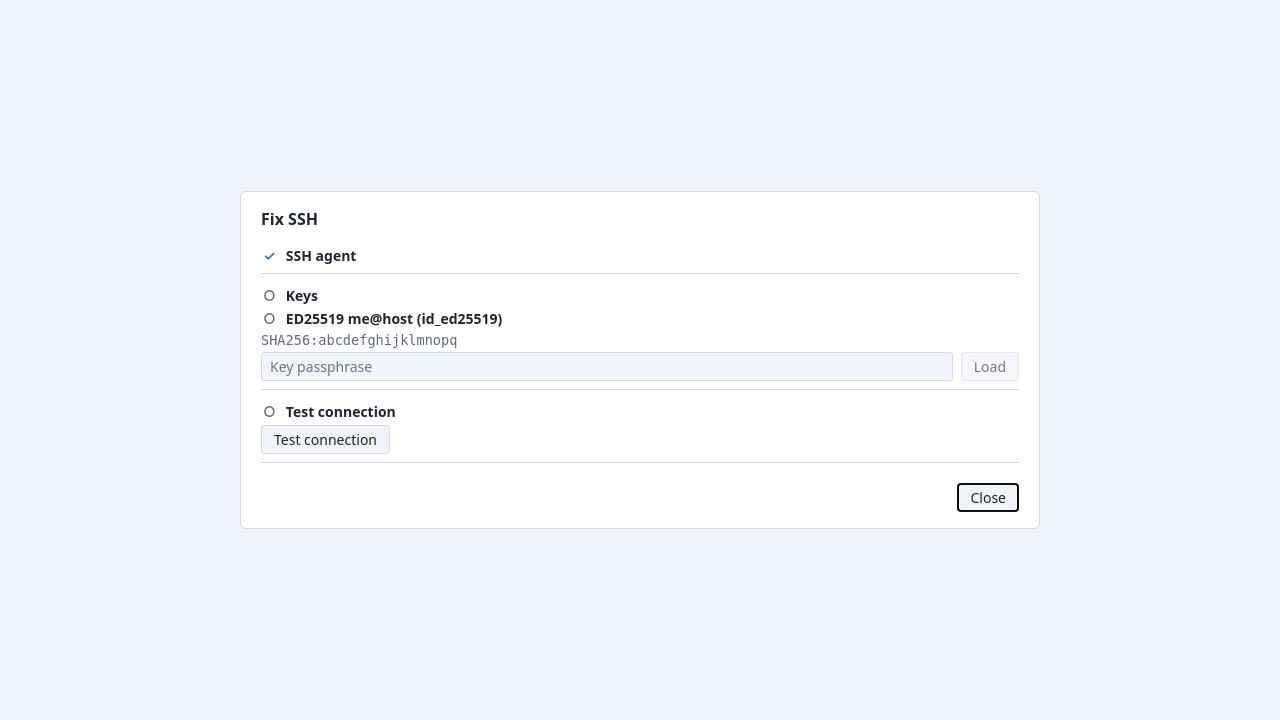
Scenario: SshFixDialog › loads an encrypted key with its passphrase, clears the input and maps a wrong passphrase
This screenshot has width=1280, height=720.
In the password field named "Passphrase for": (607, 366) left=261, top=352, right=953, bottom=381, type "secret"
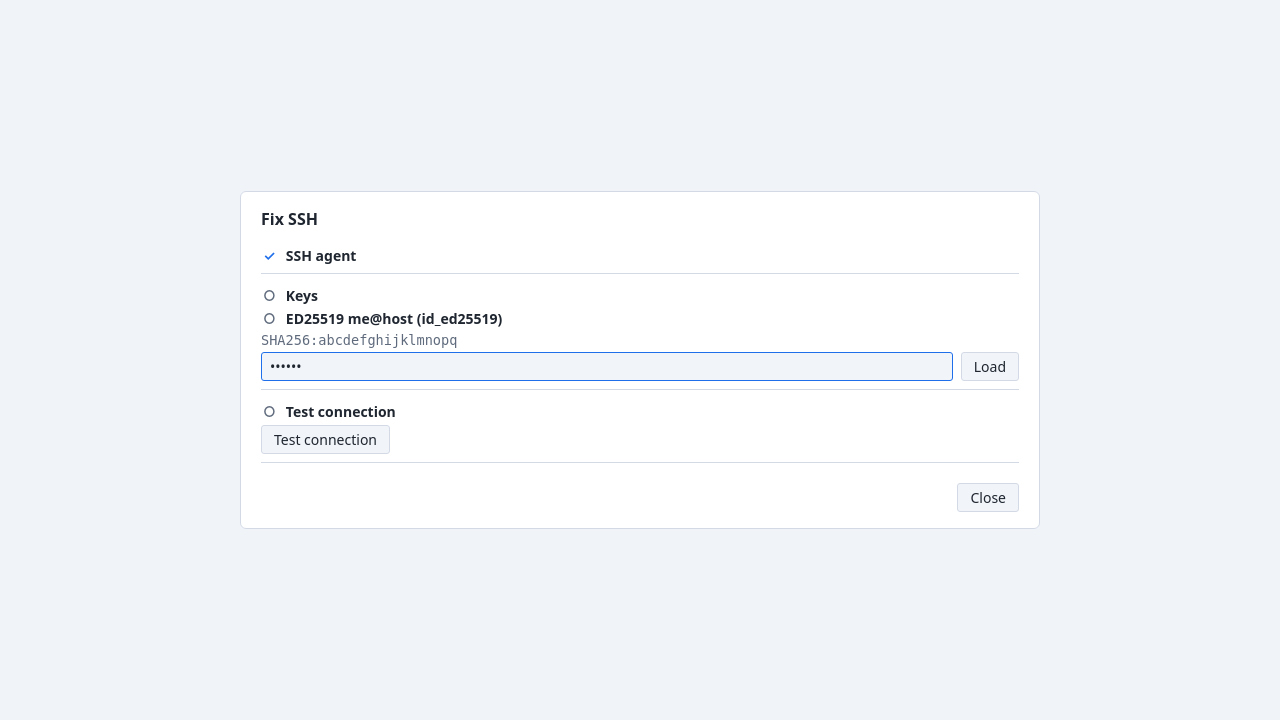
Click the button "Load": (990, 366) left=961, top=352, right=1019, bottom=381
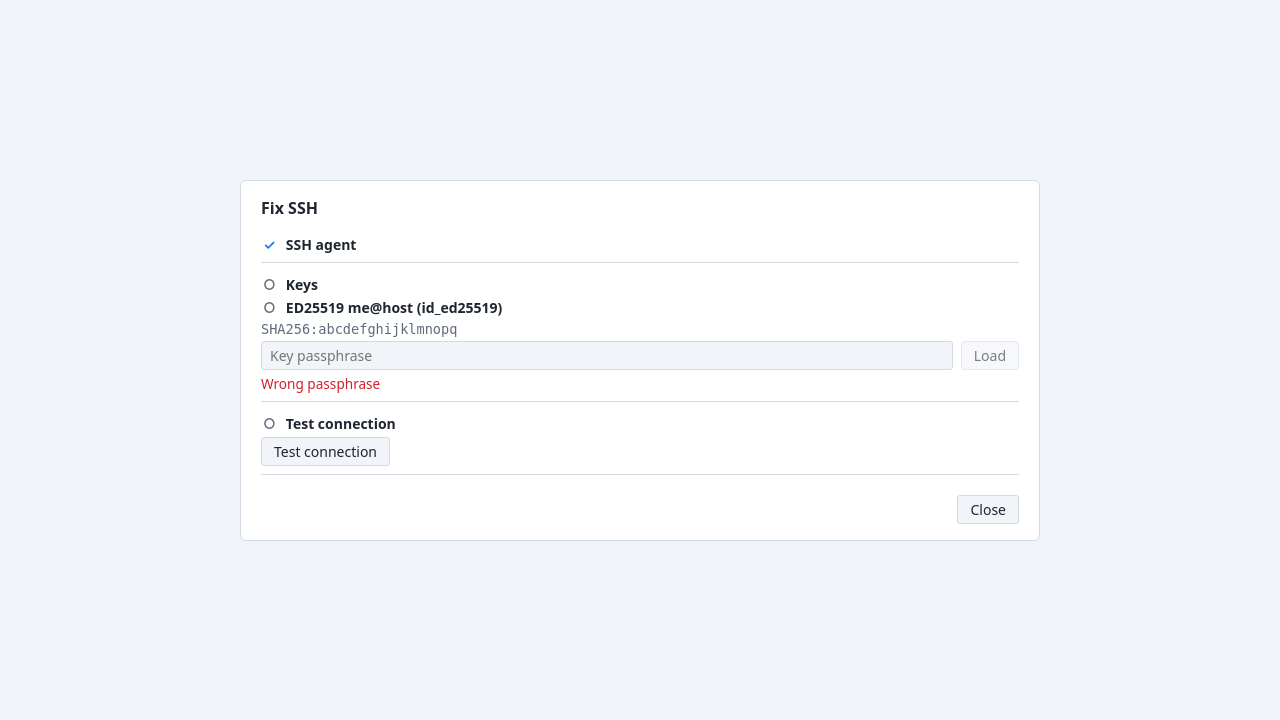
Check: the text "Wrong passphrase" is shown, box left=261, top=374, right=380, bottom=392
Check: the password field named "Passphrase for" is empty, box left=261, top=340, right=953, bottom=370
